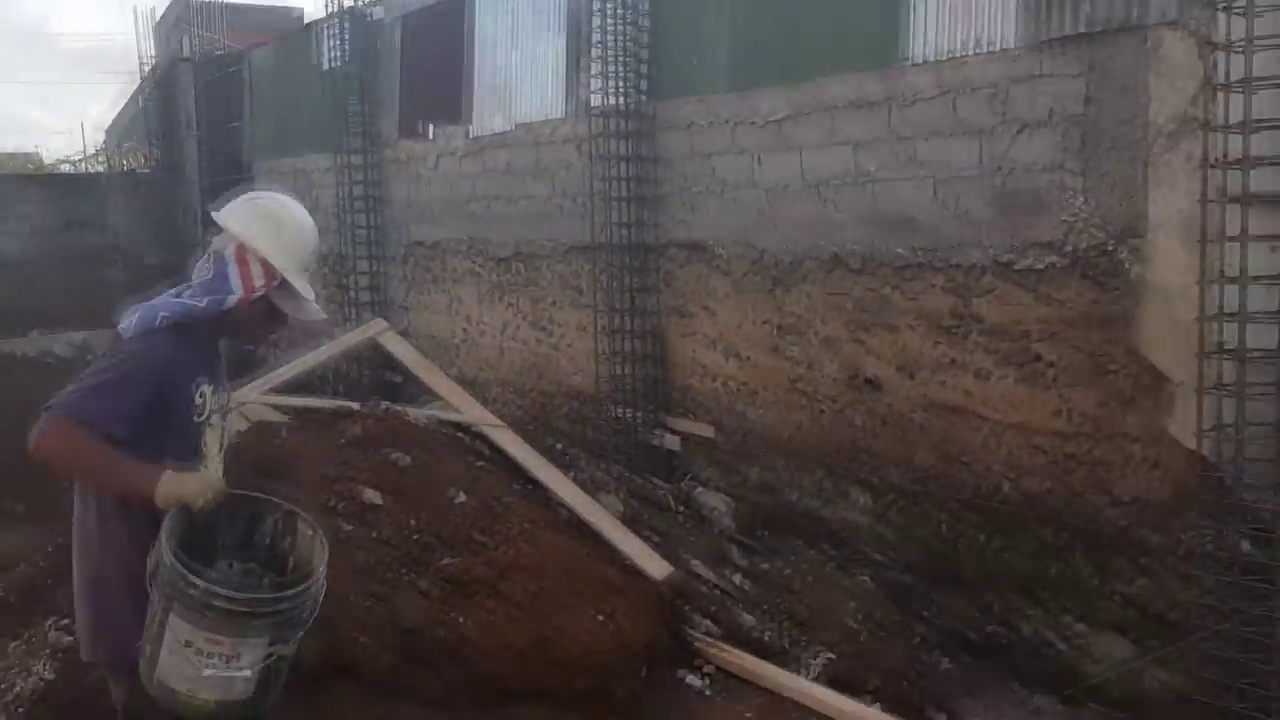helmet: (211, 191, 317, 303)
helmet-on: (180, 188, 318, 347)
person: (0, 188, 334, 694)
